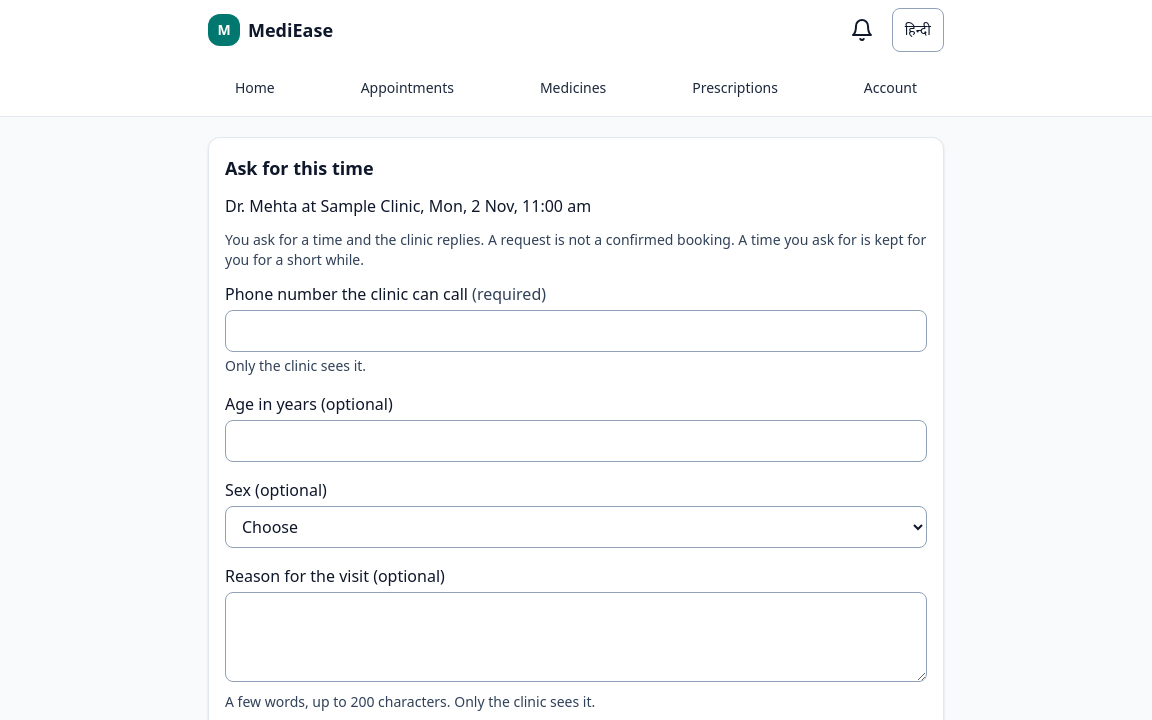
Scenario: the request form (M6b-P4, FR-PUB-02, FR-BKG-01) › R9, R12: asks for the phone only, sends the chosen slot, and says Requested
Check: the navigation bar is shown, box [0,60,1151,116]
Check: the text "Dr. Mehta at Sample Clinic, Mon, 2 Nov, 11:00 am" is shown, box [225,195,591,217]
Type "9000000601" into the field labelled "Phone number the clinic can call (required)" at (576, 331), box [225,310,927,352]
(page scrolled)
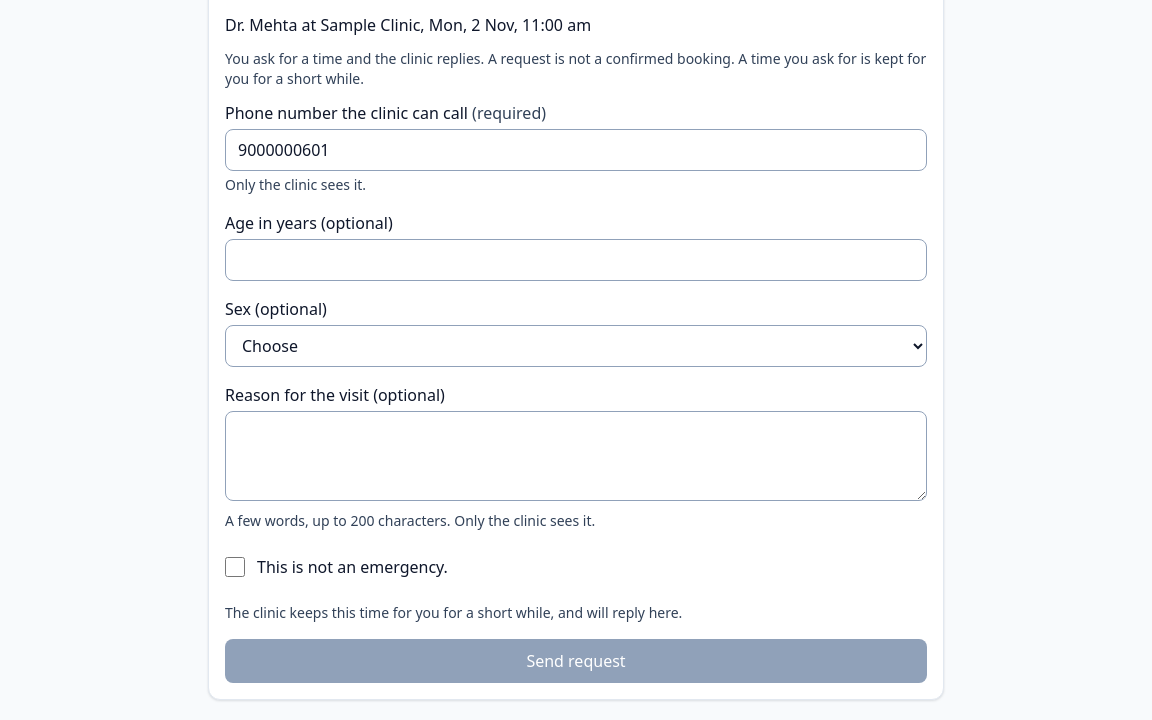
Click the checkbox labelled "This is not an emergency." at (235, 567), box [225,557,245,577]
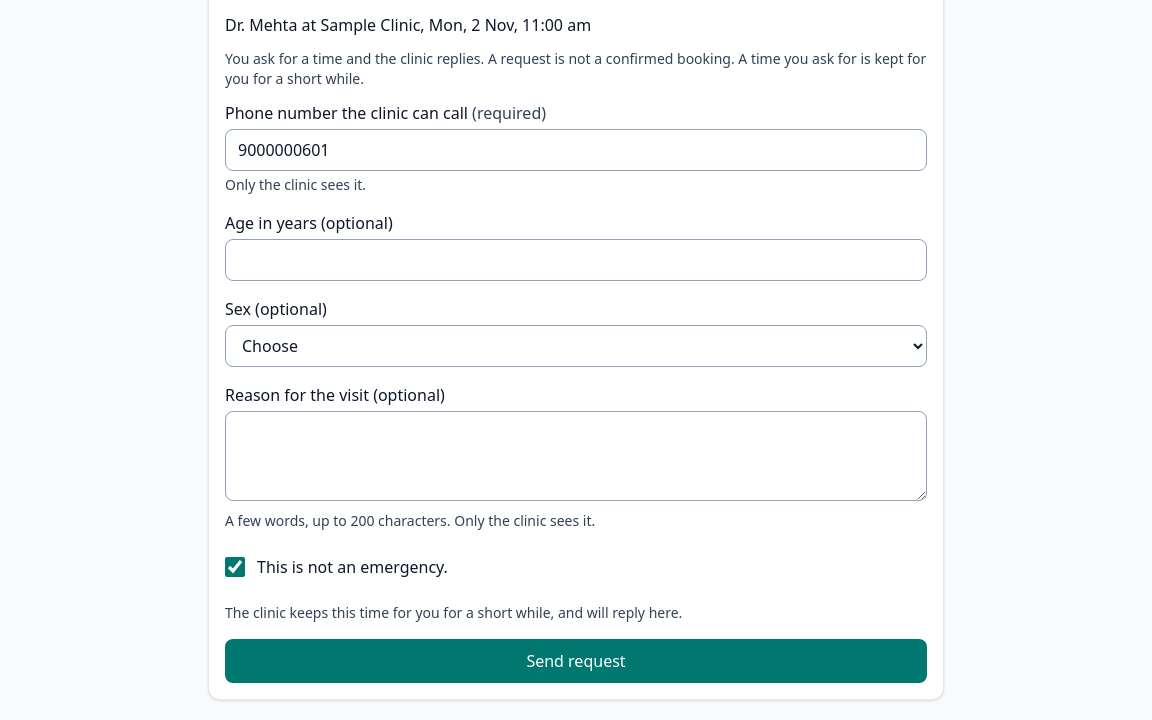
Check: the button "Send request" is enabled
Click the button "Send request" at (576, 661), box [225,639,927,683]
(page scrolled)
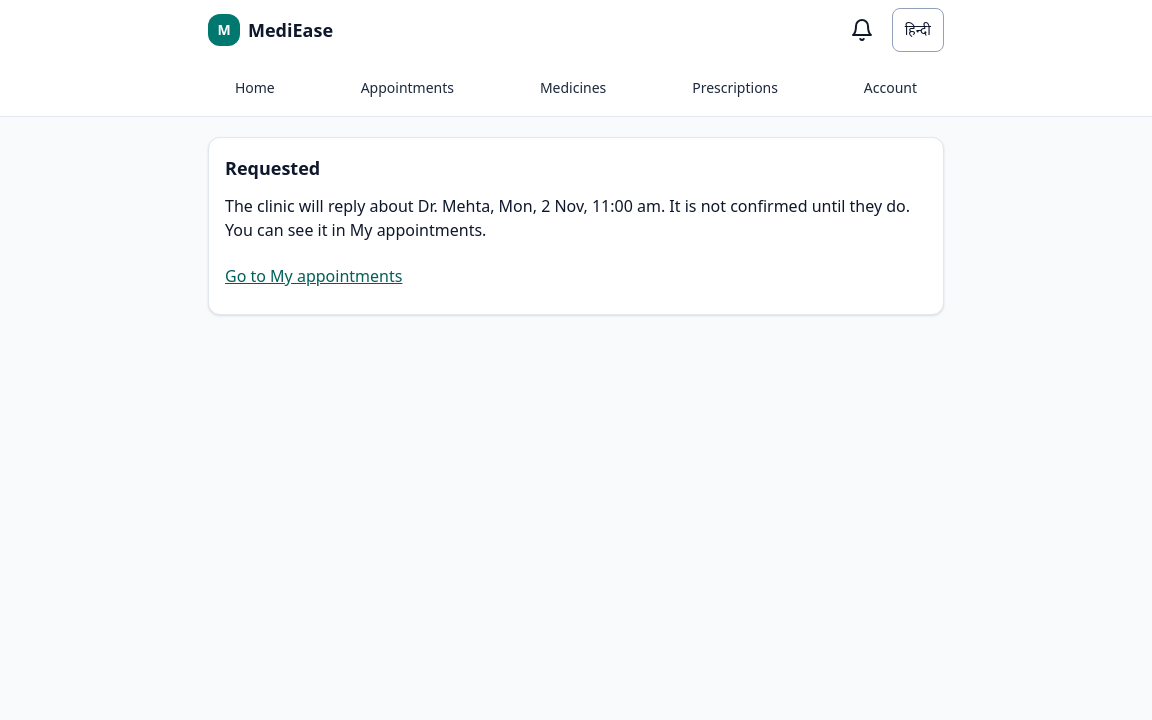
Check: the heading "Requested" is shown, box [225,156,320,180]
